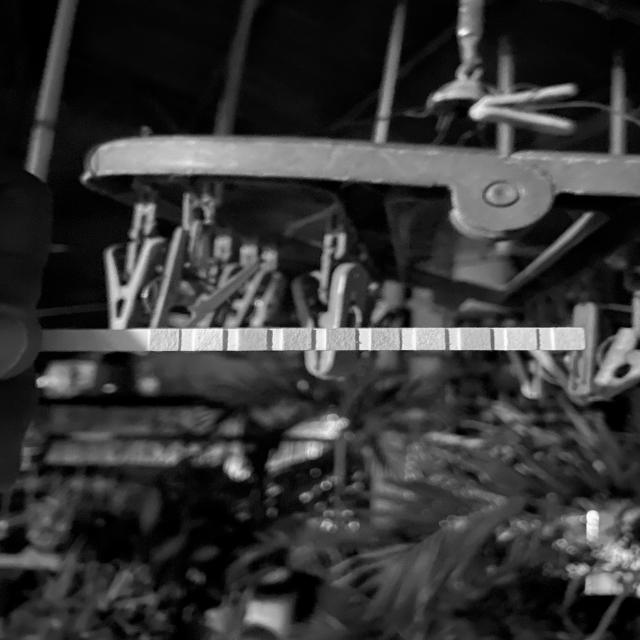Bilirubin: (195, 330, 223, 350)
Blood: (326, 328, 355, 351)
Glucose: (151, 330, 178, 350)
Ketone: (239, 329, 267, 351)
Leukocytes: (553, 328, 584, 350)
Nitrite: (506, 328, 536, 350)
Protein: (416, 328, 445, 350)
SpGravity: (283, 329, 311, 350)
Urobilinogen: (460, 328, 491, 350)
background: (0, 0, 640, 640)
pH: (372, 328, 400, 351)
strip: (45, 328, 585, 351)
